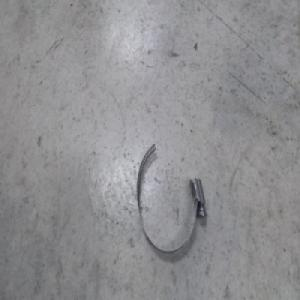AdjustableClamp: (134, 140, 203, 252)
